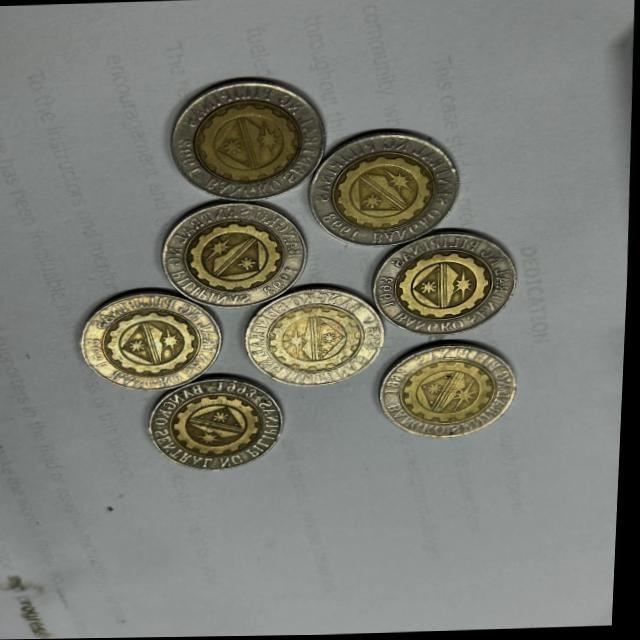10_Old_Back: (89, 291, 223, 393), (182, 94, 316, 194), (157, 380, 292, 474), (178, 207, 297, 301), (260, 291, 380, 379), (398, 349, 516, 438), (387, 245, 504, 332)
